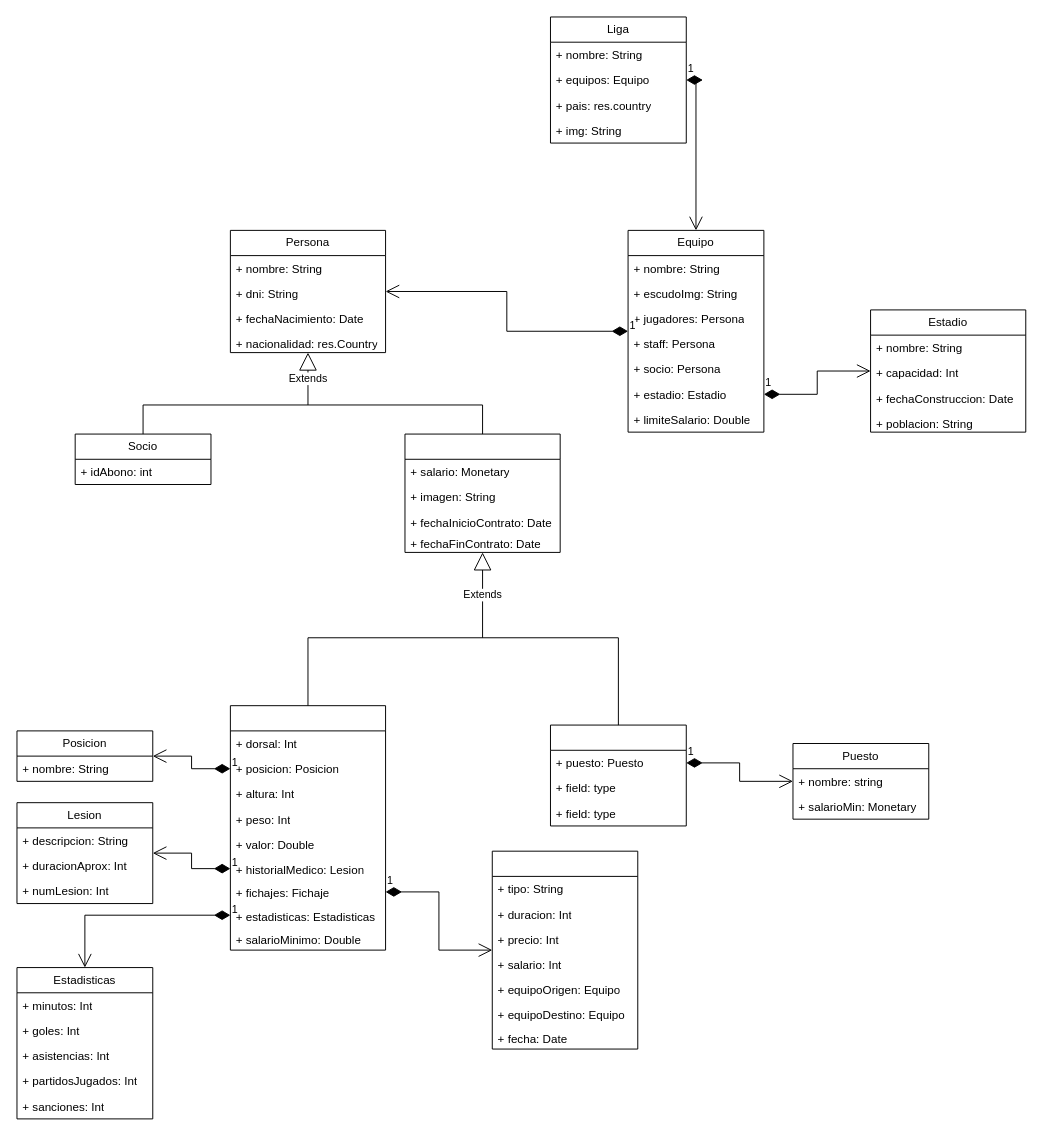
Image size: 1043x1139. Some labels were removed from this diagram. Here are the shapes that lost their labels. From the top down, the box of each, then its label:
(404, 433, 560, 552): Empleado
(550, 724, 686, 826): Staff
(229, 705, 386, 950): Jugador
(491, 850, 638, 1049): Fichaje
